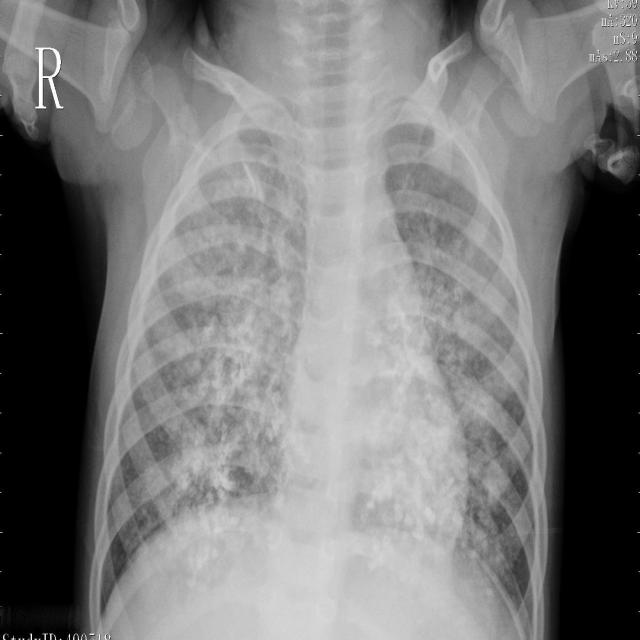low-pneumonia: (169, 160, 313, 505), (414, 226, 513, 500)
